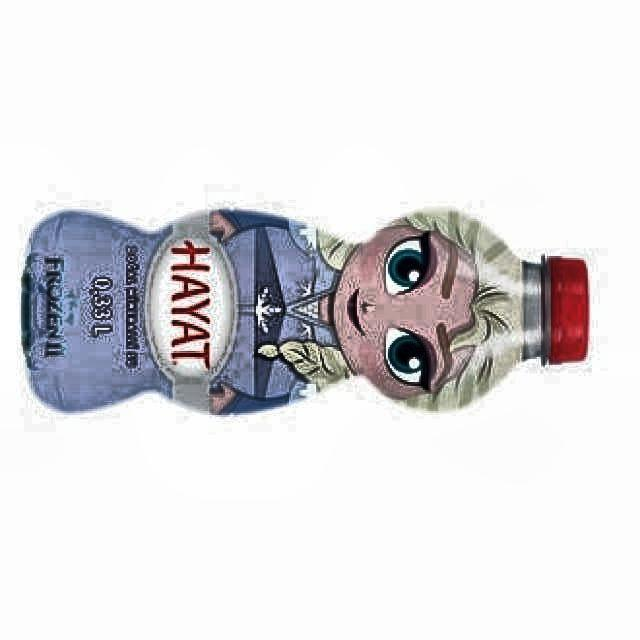plastic: (22, 210, 589, 413)
